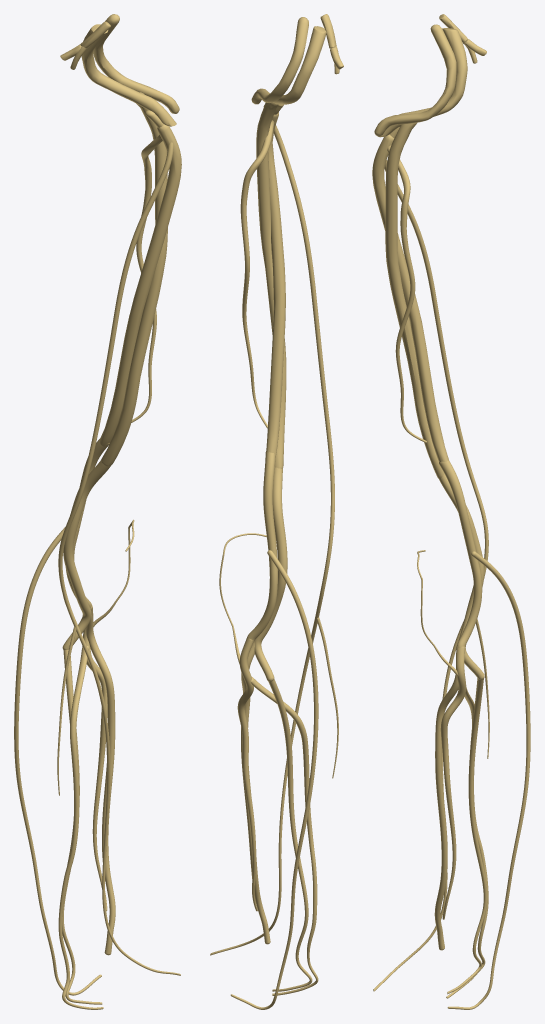
The model's file is lower-left.glb.
The picture shows the model from 3 angles, left to right: view 1: azimuth 90°, elevation 25°; view 2: azimuth 210°, elevation 25°; view 3: azimuth 270°, elevation 25°; orthographic projection. The views are drawn at different scales.
Parts seen in each view (by area): view 1: bp3d_FMA21380_FJ2103, bp3d_FMA21189_FJ2102, bp3d_FMA70250_FJ2074, bp3d_FMA44335_FJ2121, bp3d_FMA43897_FJ2065, bp3d_FMA44339_FJ2118, bp3d_FMA77381_FJ2086, bp3d_FMA18886_FJ3484, bp3d_FMA51043_FJ2099, bp3d_FMA18807_FJ3466, bp3d_FMA44337_FJ2183, bp3d_FMA43899_FJ2087 (+1 smaller); view 2: bp3d_FMA21380_FJ2103, bp3d_FMA21189_FJ2102, bp3d_FMA70250_FJ2074, bp3d_FMA44335_FJ2121, bp3d_FMA77381_FJ2086, bp3d_FMA44329_FJ2117, bp3d_FMA44339_FJ2118, bp3d_FMA51043_FJ2099, bp3d_FMA43899_FJ2087, bp3d_FMA44337_FJ2183, bp3d_FMA18807_FJ3466, bp3d_FMA18886_FJ3484 (+2 smaller); view 3: bp3d_FMA70250_FJ2074, bp3d_FMA21189_FJ2102, bp3d_FMA21380_FJ2103, bp3d_FMA44335_FJ2121, bp3d_FMA43897_FJ2065, bp3d_FMA44329_FJ2117, bp3d_FMA44337_FJ2183, bp3d_FMA18807_FJ3466, bp3d_FMA43899_FJ2087, bp3d_FMA51043_FJ2099, bp3d_FMA18886_FJ3484, bp3d_FMA77381_FJ2086 (+1 smaller).
Part boxes in pixels (box(x1,y1,x2,y2)): bp3d_FMA21380_FJ2103: box(57, 142, 180, 975); bp3d_FMA21189_FJ2102: box(99, 124, 181, 446); bp3d_FMA70250_FJ2074: box(101, 92, 167, 466); bp3d_FMA44335_FJ2121: box(14, 527, 101, 995); bp3d_FMA43897_FJ2065: box(85, 615, 115, 955); bp3d_FMA44339_FJ2118: box(58, 646, 103, 1009); bp3d_FMA77381_FJ2086: box(62, 460, 110, 649); bp3d_FMA18886_FJ3484: box(81, 24, 176, 126); bp3d_FMA51043_FJ2099: box(131, 110, 163, 422); bp3d_FMA18807_FJ3466: box(93, 14, 179, 113); bp3d_FMA44337_FJ2183: box(82, 605, 107, 910); bp3d_FMA43899_FJ2087: box(62, 649, 102, 1004); bp3d_FMA21380_FJ2103: box(210, 125, 338, 955); bp3d_FMA21189_FJ2102: box(266, 112, 285, 457); bp3d_FMA70250_FJ2074: box(256, 102, 286, 468); bp3d_FMA44335_FJ2121: box(230, 550, 318, 1009); bp3d_FMA77381_FJ2086: box(254, 467, 287, 681); bp3d_FMA44329_FJ2117: box(246, 451, 277, 641); bp3d_FMA44339_FJ2118: box(251, 677, 318, 995); bp3d_FMA51043_FJ2099: box(240, 104, 283, 428); bp3d_FMA43899_FJ2087: box(268, 679, 312, 991); bp3d_FMA44337_FJ2183: box(237, 638, 257, 911); bp3d_FMA18807_FJ3466: box(251, 17, 308, 104); bp3d_FMA18886_FJ3484: box(263, 26, 326, 106); bp3d_FMA70250_FJ2074: box(385, 122, 444, 478); bp3d_FMA21189_FJ2102: box(372, 134, 448, 462); bp3d_FMA21380_FJ2103: box(373, 160, 489, 991); bp3d_FMA44335_FJ2121: box(447, 551, 530, 1009); bp3d_FMA43897_FJ2065: box(434, 674, 458, 950); bp3d_FMA44329_FJ2117: box(439, 460, 482, 648); bp3d_FMA44337_FJ2183: box(440, 646, 466, 919); bp3d_FMA18807_FJ3466: box(374, 24, 456, 136); bp3d_FMA43899_FJ2087: box(447, 678, 487, 994); bp3d_FMA51043_FJ2099: box(387, 127, 426, 442); bp3d_FMA18886_FJ3484: box(378, 28, 467, 137); bp3d_FMA77381_FJ2086: box(439, 474, 484, 679).
Size of the model in its own units: 0.1047 by 0.9595 by 0.1437.
